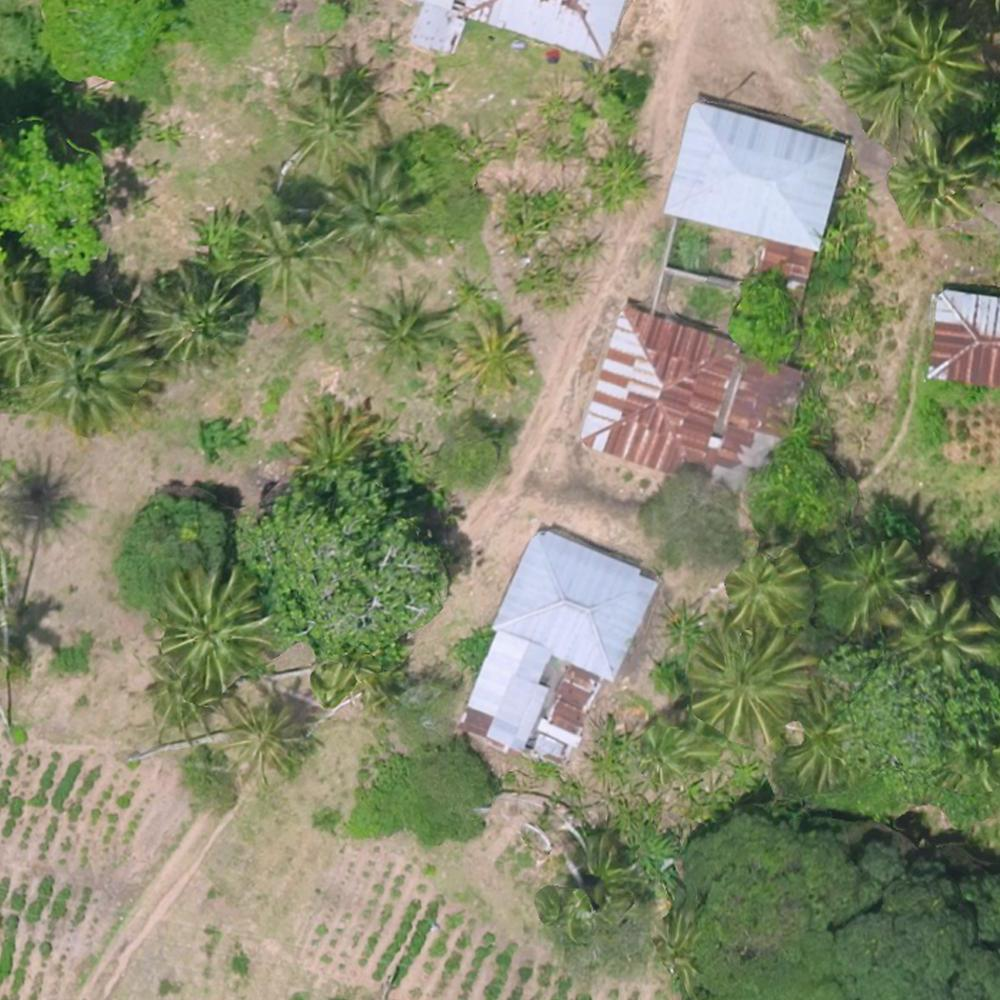Palm: (155, 567, 268, 680), (687, 630, 804, 738), (43, 312, 147, 412), (141, 264, 243, 358), (882, 10, 979, 101), (321, 163, 421, 251), (228, 215, 326, 293), (901, 588, 986, 674), (360, 286, 450, 362), (895, 131, 980, 211), (227, 698, 310, 778), (726, 552, 814, 625), (286, 405, 368, 483), (292, 78, 370, 155), (458, 315, 531, 390)
